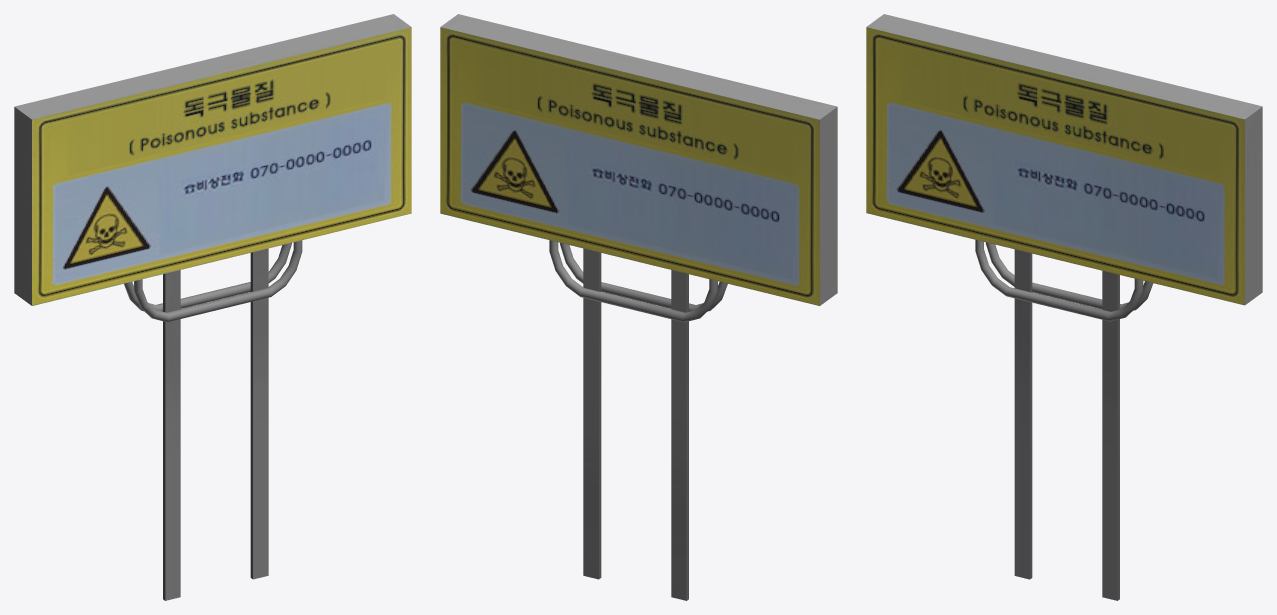
File: cautionPoisonous.gltf
The picture shows the model from 3 angles, left to right: view 1: azimuth 30°, elevation 25°; view 2: azimuth 150°, elevation 25°; view 3: azimuth 330°, elevation 25°; orthographic projection.
Visible parts, largest first — view 1: poisonous; view 2: poisonous; view 3: poisonous.
Boxes of the visible parts, <box> form: poisonous: <box>14,14,411,600</box>; poisonous: <box>440,14,837,600</box>; poisonous: <box>866,14,1262,600</box>.
Bounding box in the file's own units: 21.53 × 28.25 × 1.76.
1 material, 1 textured.
